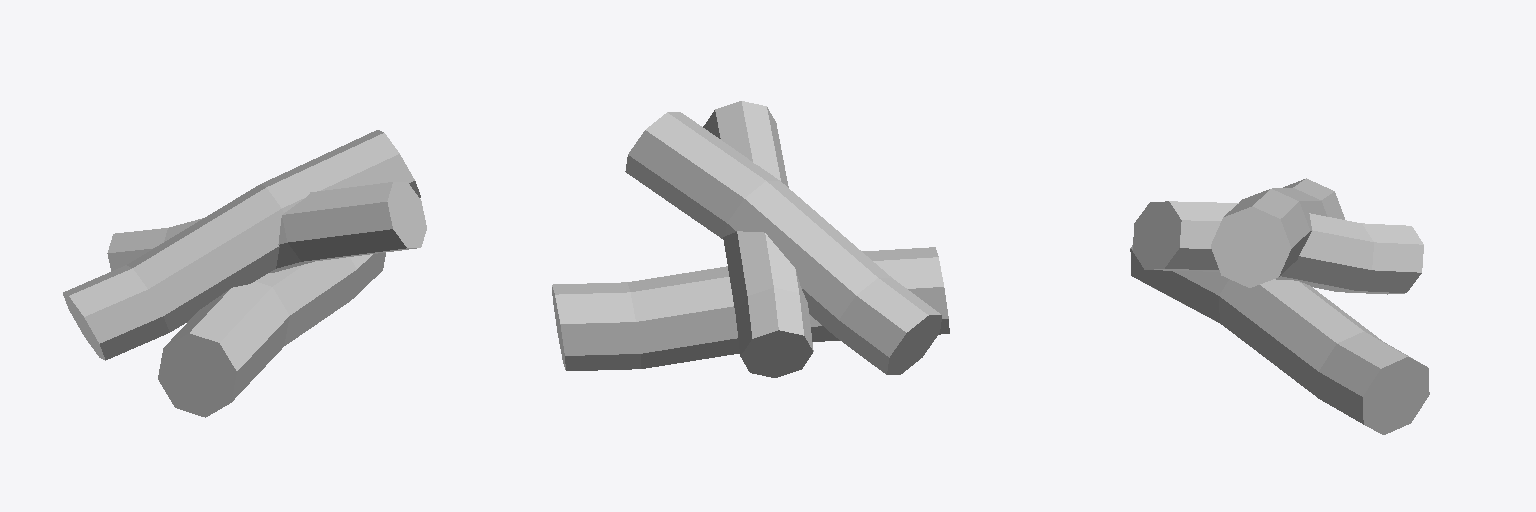
File: Fire.obj
3 views of the same model, side by side, from view 1: azimuth 30°, elevation 25°; view 2: azimuth 150°, elevation 25°; view 3: azimuth 270°, elevation 25° (orthographic).
Parts seen in each view (by area): view 1: Cylinder, Cylinder.002, Cylinder.001; view 2: Cylinder, Cylinder.002, Cylinder.001; view 3: Cylinder.002, Cylinder.001, Cylinder.
Boxes of the visible parts, x1,y1,x2,y2 form: Cylinder: [63, 130, 420, 360]; Cylinder.002: [158, 253, 385, 417]; Cylinder.001: [107, 182, 426, 272]; Cylinder: [625, 112, 941, 374]; Cylinder.002: [552, 247, 949, 370]; Cylinder.001: [703, 101, 813, 377]; Cylinder.002: [1130, 245, 1429, 434]; Cylinder.001: [1132, 201, 1423, 294]; Cylinder: [1211, 178, 1344, 287].
Bounding box in the file's own units: 1.16 × 0.6752 × 0.8671.